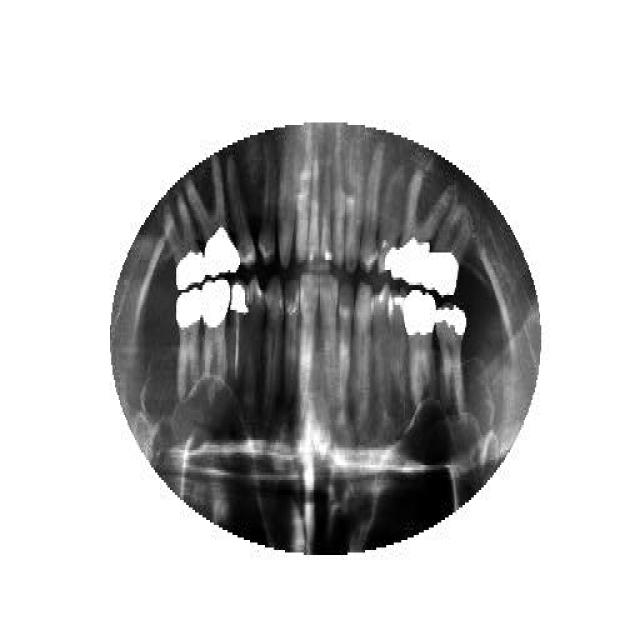Fillings: (185, 155, 244, 277), (392, 175, 452, 287), (163, 192, 205, 292), (428, 208, 472, 298), (404, 290, 435, 410), (435, 300, 465, 412), (175, 285, 201, 410), (202, 278, 230, 392), (376, 168, 405, 278)
Implant: (229, 282, 246, 388)
